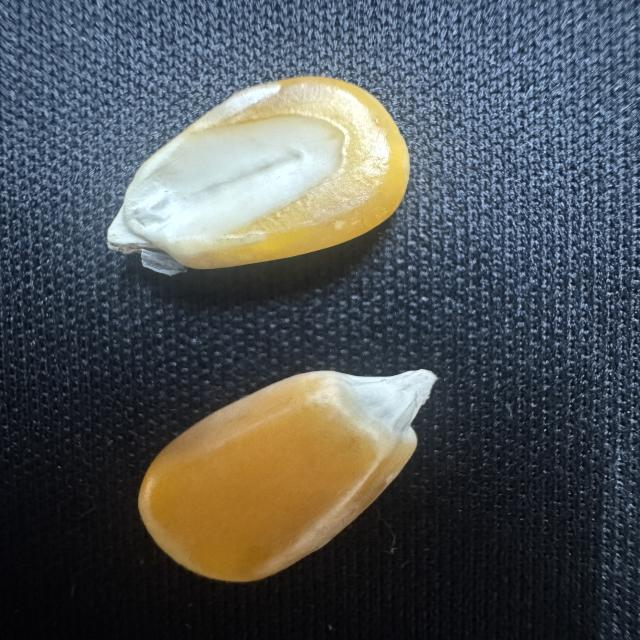Good-Seed: (125, 364, 462, 590), (91, 64, 418, 283)
